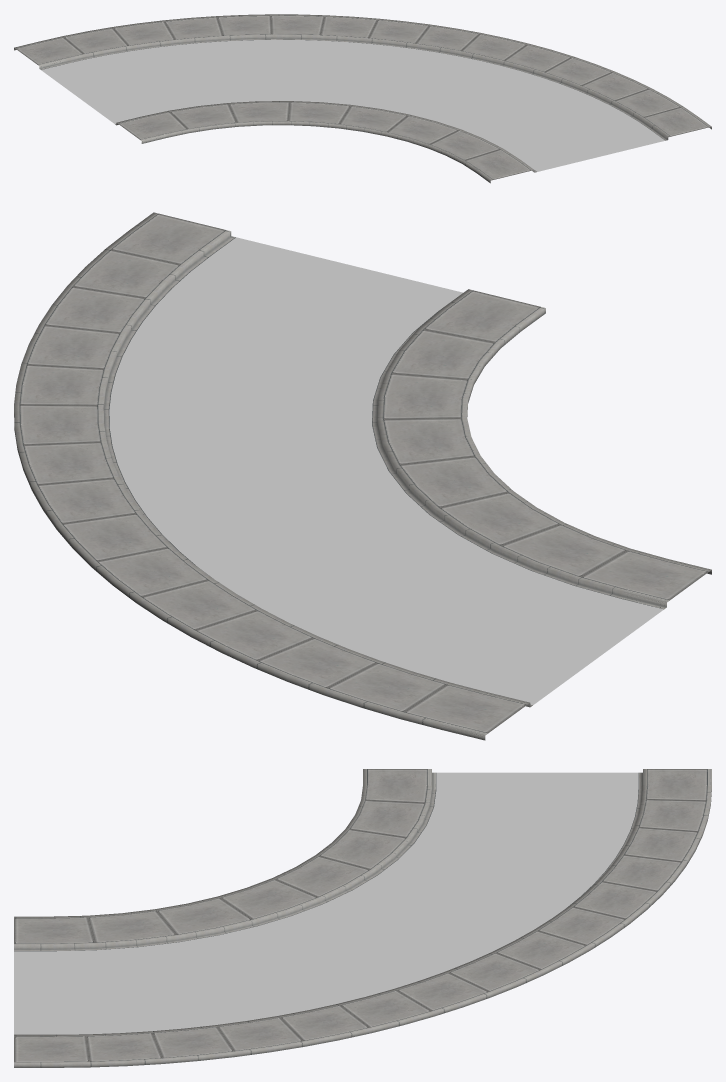
The model's file is street.bigCurve.fbx.
3 renders of one model, top to bottom at view 1: azimuth 30°, elevation 25°; view 2: azimuth 150°, elevation 25°; view 3: azimuth 270°, elevation 25°, orthographic. The views are drawn at different scales.
Visible parts, largest first — view 1: MESH street.bigCurve; view 2: MESH street.bigCurve; view 3: MESH street.bigCurve.
Boxes of the visible parts, left/top/right/bottom form: MESH street.bigCurve: left=14, top=14, right=711, bottom=183; MESH street.bigCurve: left=14, top=212, right=711, bottom=740; MESH street.bigCurve: left=14, top=769, right=711, bottom=1067.
Size of what is drawn, in the model's own units: 2400 by 15 by 2400.
